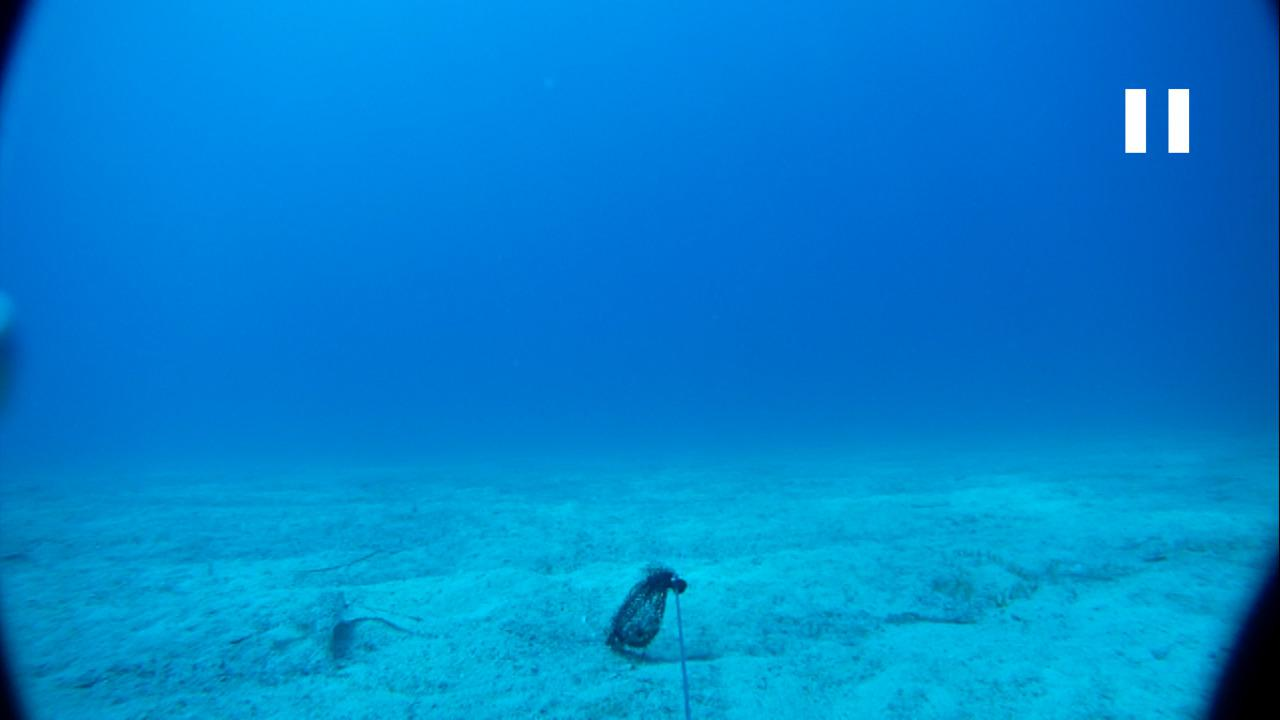dactylopterus: (262, 580, 409, 672)
